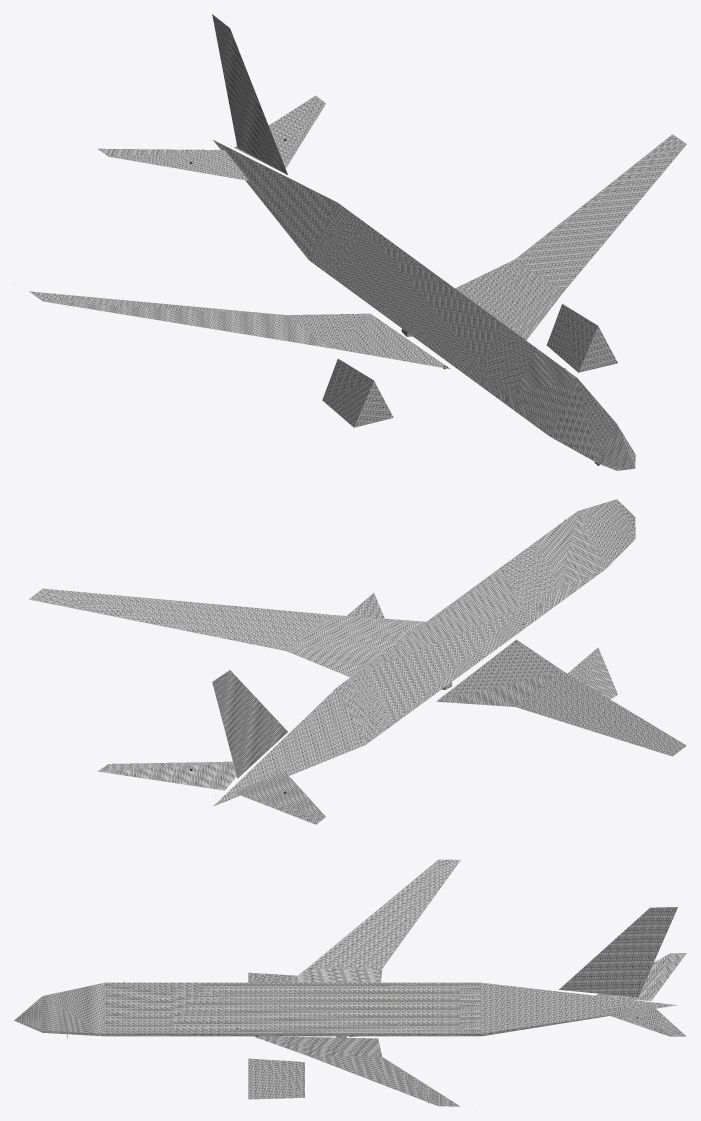
File: UTT_Boeing_787-10_GE_LOD1.gltf
The picture shows the model from 3 angles, top to bottom: view 1: azimuth 30°, elevation 25°; view 2: azimuth 150°, elevation 25°; view 3: azimuth 270°, elevation 25°; orthographic projection. The views are drawn at different scales.
Visible parts, largest first — view 1: fuse_LOD_15; view 2: fuse_LOD_15; view 3: fuse_LOD_15.
Boxes of the visible parts, x1,y1,x2,y2 form: fuse_LOD_15: [29, 14, 686, 470]; fuse_LOD_15: [29, 499, 686, 824]; fuse_LOD_15: [14, 859, 686, 1106].
Bounding box in the file's own units: 60.56 × 15.9 × 68.25.
